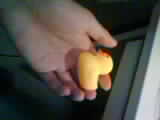duck: (70, 40, 118, 92)
